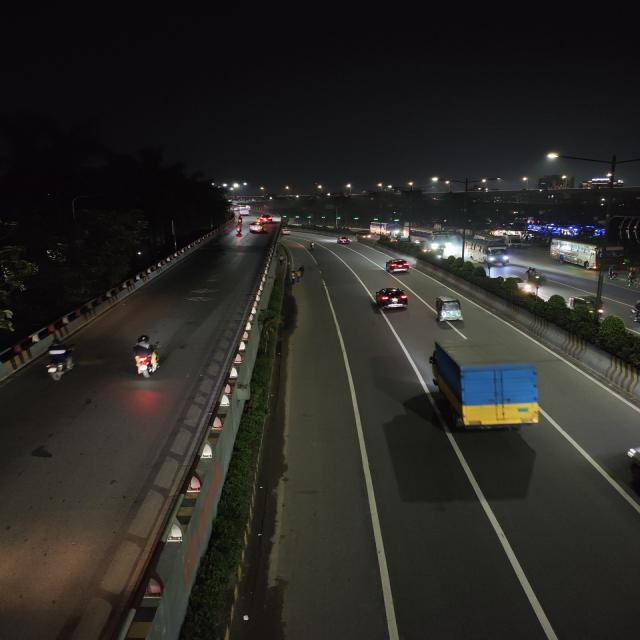bicycle: (624, 271, 640, 290), (608, 266, 622, 283)
bus: (550, 236, 625, 272), (468, 236, 510, 266), (411, 228, 453, 252)
car: (374, 284, 412, 312), (383, 256, 413, 274), (250, 223, 264, 235), (336, 236, 352, 246), (357, 232, 371, 240)
cng: (431, 294, 468, 326), (569, 294, 608, 323)
motorcycle: (127, 334, 165, 380), (41, 341, 80, 383), (614, 441, 640, 504), (234, 228, 244, 238), (237, 217, 245, 225)
pedestrian: (296, 264, 308, 280), (286, 274, 298, 288), (276, 254, 289, 266)
truck: (422, 338, 558, 438)
